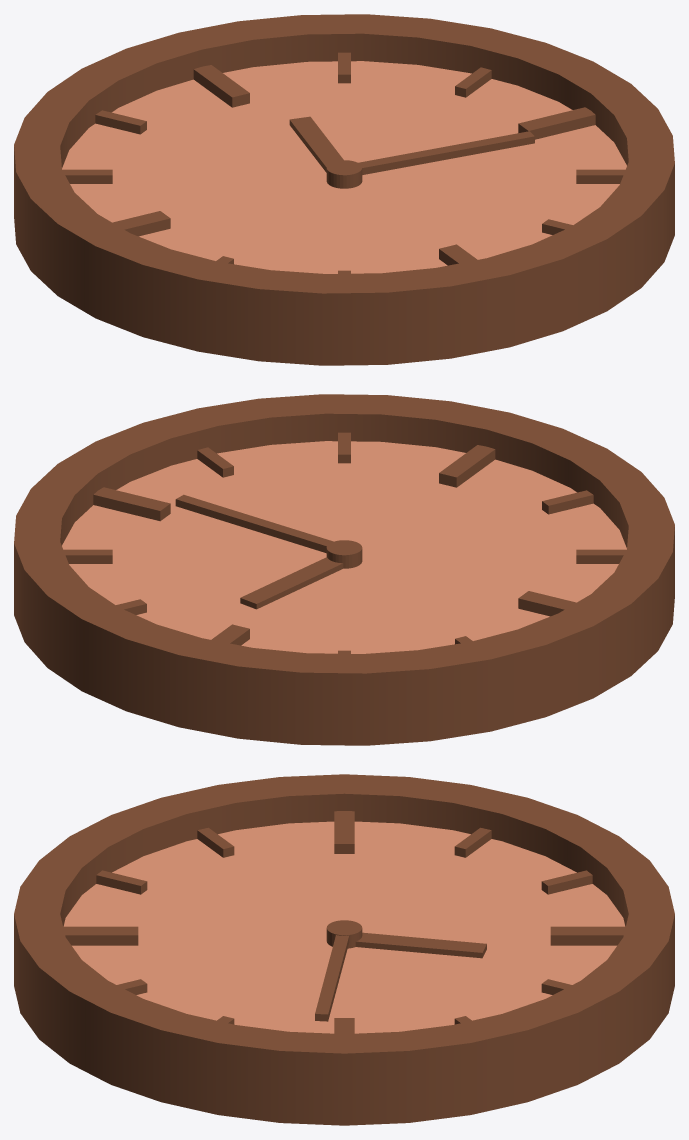
The model's file is clock 1.fbx.
3 views of the same model, one above another, from view 1: azimuth 30°, elevation 25°; view 2: azimuth 150°, elevation 25°; view 3: azimuth 270°, elevation 25° (orthographic).
Parts seen in each view (by area): view 1: Circle, Circle.002, Circle.001, Cube, Cube.002, Cube.001, Cylinder; view 2: Circle, Circle.002, Circle.001, Cube, Cube.002, Cube.001, Cylinder; view 3: Circle, Circle.002, Circle.001, Cube, Cube.001, Cube.002, Cylinder.
Part boxes in pixels (left/top/right/bottom): Circle: left=14, top=14, right=674, bottom=365; Circle.002: left=62, top=61, right=626, bottom=273; Circle.001: left=112, top=65, right=595, bottom=265; Cube: left=62, top=52, right=625, bottom=273; Cube.002: left=358, top=131, right=534, bottom=174; Cube.001: left=289, top=116, right=343, bottom=172; Cylinder: left=326, top=160, right=362, bottom=188; Circle: left=14, top=394, right=674, bottom=745; Circle.002: left=62, top=441, right=626, bottom=653; Circle.001: left=93, top=445, right=576, bottom=645; Cube: left=63, top=432, right=626, bottom=653; Cube.002: left=175, top=494, right=333, bottom=553; Cube.001: left=240, top=557, right=343, bottom=609; Cylinder: left=326, top=540, right=362, bottom=568; Circle: left=14, top=774, right=674, bottom=1125; Circle.002: left=63, top=821, right=625, bottom=1033; Circle.001: left=63, top=811, right=625, bottom=1033; Cube: left=96, top=827, right=592, bottom=1024; Cube.001: left=355, top=932, right=486, bottom=958; Cube.002: left=315, top=935, right=349, bottom=1021; Cylinder: left=326, top=920, right=362, bottom=948.
Size of the model in its own units: 200 by 24.07 by 200.
